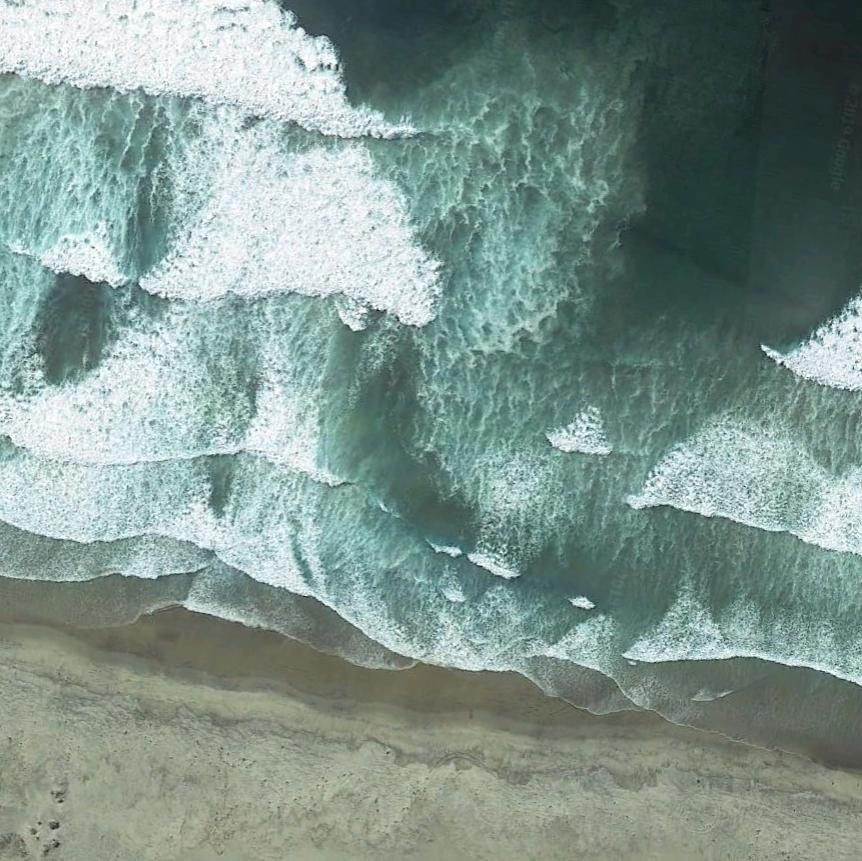rip_current: (339, 23, 594, 600)
